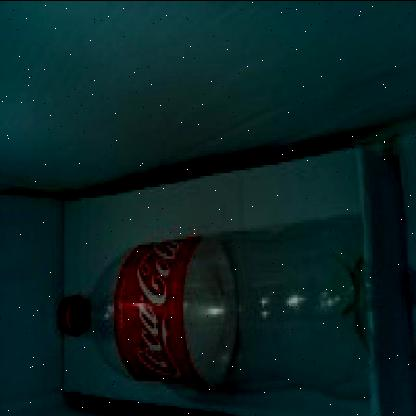Plastic Bottle: (56, 215, 372, 397)
